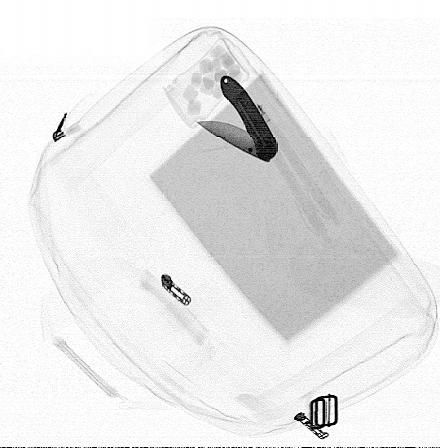Knife: (197, 74, 281, 163)
